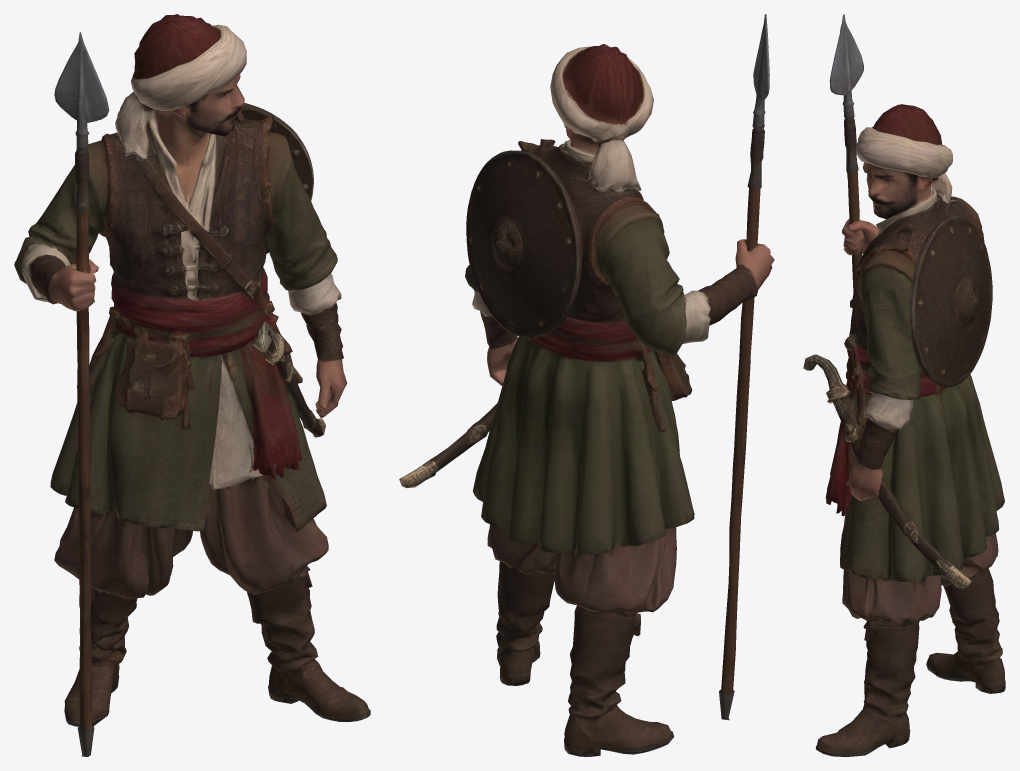
File: gonullu-serhad-piyadesi-1550-1600-tripo-v1.glb
3 renders of one model, left to right at view 1: azimuth 30°, elevation 25°; view 2: azimuth 150°, elevation 25°; view 3: azimuth 270°, elevation 25°, orthographic. The views are drawn at different scales.
Visible parts, largest first — view 1: tripo_node_cdd62263-7b1f-4f31-a6c6-7810eb594e95; view 2: tripo_node_cdd62263-7b1f-4f31-a6c6-7810eb594e95; view 3: tripo_node_cdd62263-7b1f-4f31-a6c6-7810eb594e95.
Part boxes in pixels (box(x1,y1,x2,y2)): tripo_node_cdd62263-7b1f-4f31-a6c6-7810eb594e95: box(14, 14, 370, 756); tripo_node_cdd62263-7b1f-4f31-a6c6-7810eb594e95: box(399, 14, 774, 756); tripo_node_cdd62263-7b1f-4f31-a6c6-7810eb594e95: box(803, 14, 1005, 756).
Bounding box in the file's own units: 0.4634 × 1 × 0.291.
1 material, 1 textured.
